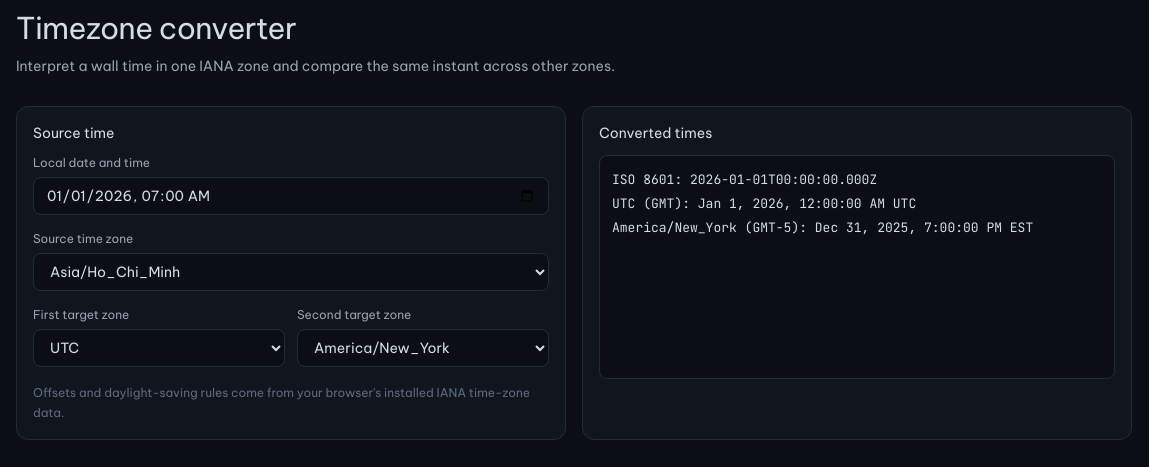
Test: Timezone Converter tool › announces nonexistent wall times and warns about ambiguous ones
This screenshot has width=1149, height=467.
Select "America/New_York" in the dropdown labelled "Source time zone" at (291, 272), box [33,253,549,291]
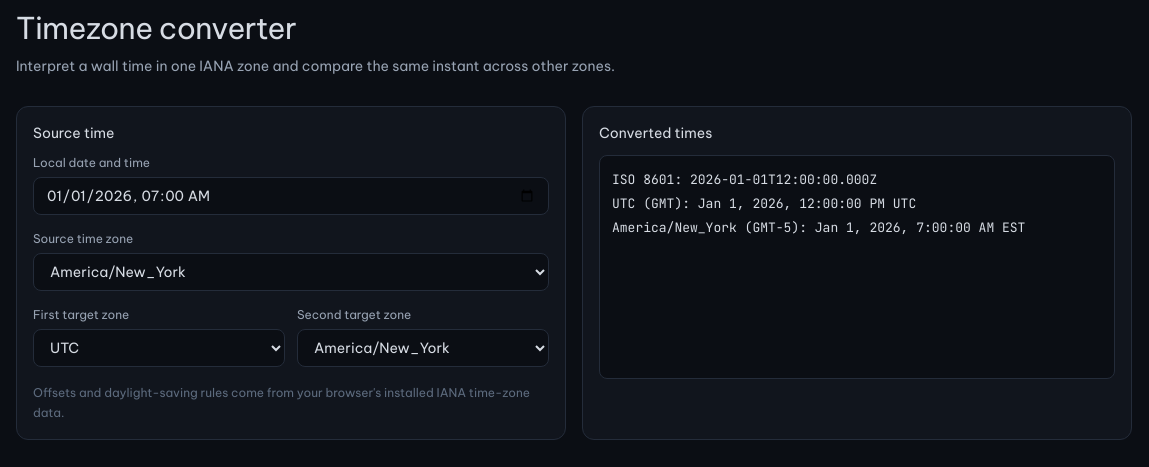
Replace the text in the field labelled "Local date and time" with "2026-03-08T02:30" at (291, 196), box [33,177,549,215]
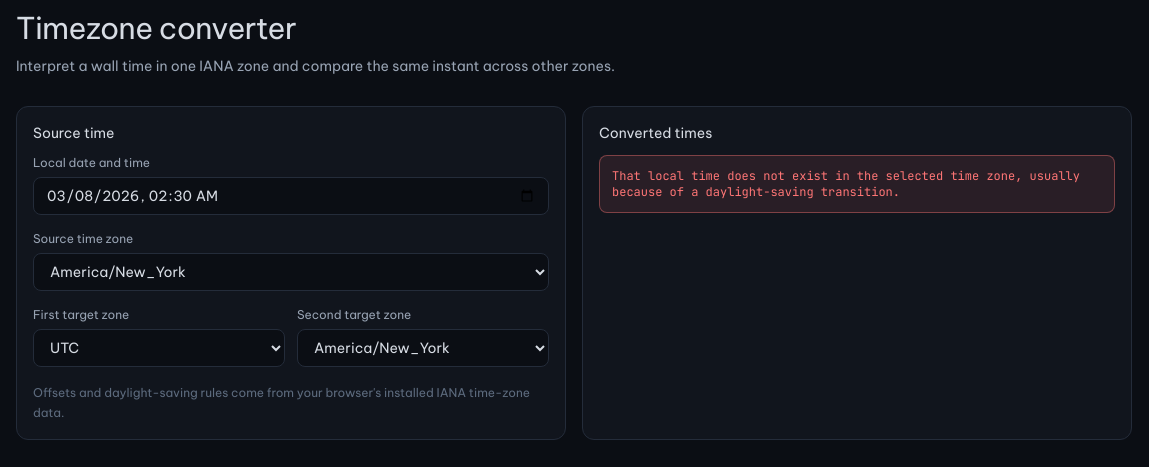
Expected: the message shows "does not exist", [612,168,1080,200]
Replace the text in the field labelled "Local date and time" with "2026-11-01T01:30" at (291, 196), box [33,177,549,215]
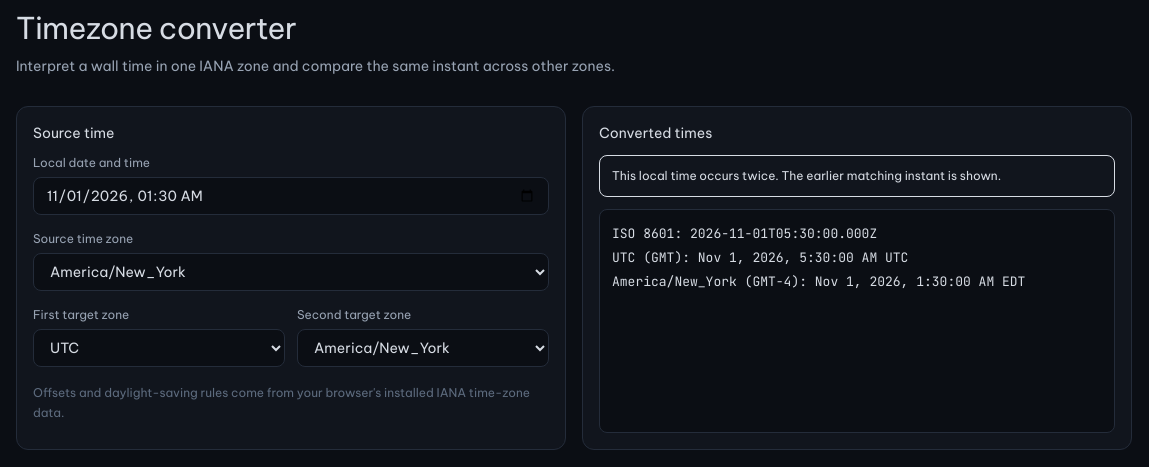
Expected: the message shows "occurs twice", [612,168,1001,183]
